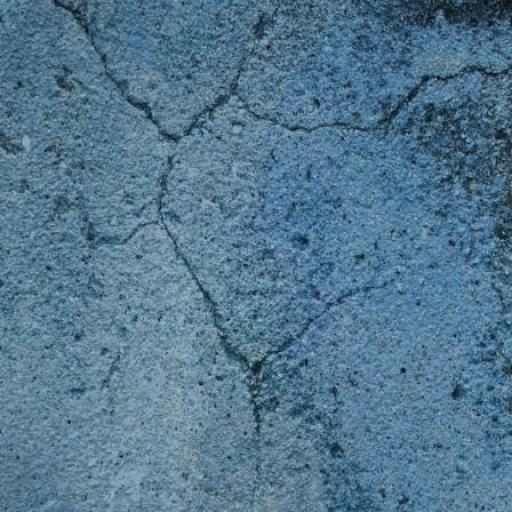spalling: (50, 1, 387, 437), (180, 58, 510, 144)
